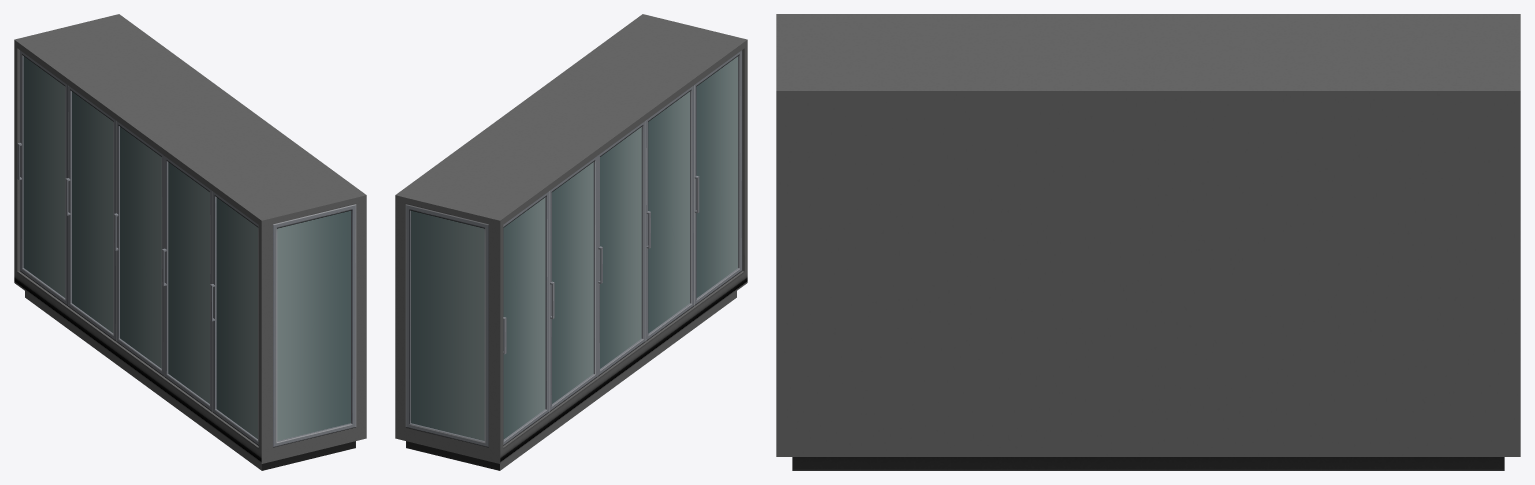
Rendered from sp_freezer_ice.FBX.
The picture shows the model from 3 angles, left to right: view 1: azimuth 30°, elevation 25°; view 2: azimuth 150°, elevation 25°; view 3: azimuth 270°, elevation 25°; orthographic projection. The views are drawn at different scales.
Visible parts, largest first — view 1: sp_freezer_ice, sp_freezer_door_c, sp_freezer_door_a, sp_freezer_door_d, sp_freezer_door_b, sp_freezer_door_e; view 2: sp_freezer_ice, sp_freezer_door_e, sp_freezer_door_c, sp_freezer_door_d, sp_freezer_door_b, sp_freezer_door_a; view 3: sp_freezer_ice.
Part boxes in pixels (left/top/right/bottom): sp_freezer_ice: left=14, top=14, right=366, bottom=470; sp_freezer_door_c: left=113, top=120, right=164, bottom=376; sp_freezer_door_a: left=17, top=50, right=67, bottom=305; sp_freezer_door_d: left=162, top=156, right=212, bottom=411; sp_freezer_door_b: left=65, top=85, right=115, bottom=341; sp_freezer_door_e: left=210, top=191, right=258, bottom=445; sp_freezer_ice: left=395, top=14, right=747, bottom=470; sp_freezer_door_e: left=694, top=50, right=742, bottom=305; sp_freezer_door_c: left=597, top=121, right=645, bottom=376; sp_freezer_door_d: left=645, top=85, right=693, bottom=341; sp_freezer_door_b: left=549, top=156, right=597, bottom=411; sp_freezer_door_a: left=503, top=191, right=549, bottom=445; sp_freezer_ice: left=776, top=14, right=1520, bottom=470.
Size of the model in its own units: 37.85 by 154 by 87.4.
